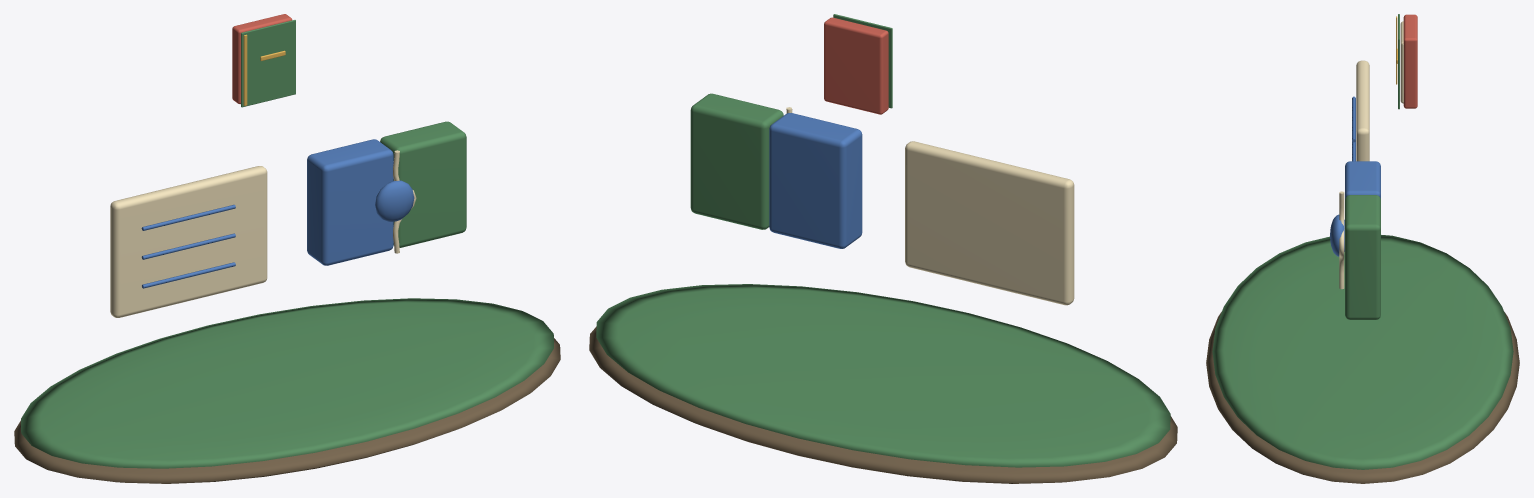
File: complete-third-precedent-as-if.glb
3 views of the same model, side by side, from view 1: azimuth 30°, elevation 25°; view 2: azimuth 150°, elevation 25°; view 3: azimuth 270°, elevation 25° (orthographic). The views are drawn at different scales.
Visible parts, largest first — view 1: complete-third-precedent-as-if_surface_01, complete-third-precedent-as-if_surface_02, complete-third-precedent-as-if_surface_03, complete-third-precedent-as-if_surface_00, complete-third-precedent-as-if_surface_04; view 2: complete-third-precedent-as-if_surface_01, complete-third-precedent-as-if_surface_02, complete-third-precedent-as-if_surface_03, complete-third-precedent-as-if_surface_00, complete-third-precedent-as-if_surface_04; view 3: complete-third-precedent-as-if_surface_01, complete-third-precedent-as-if_surface_00, complete-third-precedent-as-if_surface_02, complete-third-precedent-as-if_surface_03, complete-third-precedent-as-if_surface_04.
Boxes of the visible parts, bbox=[...] form: complete-third-precedent-as-if_surface_01: bbox=[21, 20, 553, 468]; complete-third-precedent-as-if_surface_02: bbox=[110, 150, 416, 317]; complete-third-precedent-as-if_surface_03: bbox=[141, 139, 414, 288]; complete-third-precedent-as-if_surface_00: bbox=[14, 338, 560, 483]; complete-third-precedent-as-if_surface_04: bbox=[232, 14, 292, 104]; complete-third-precedent-as-if_surface_01: bbox=[596, 14, 1170, 467]; complete-third-precedent-as-if_surface_02: bbox=[786, 107, 1074, 305]; complete-third-precedent-as-if_surface_03: bbox=[769, 113, 862, 248]; complete-third-precedent-as-if_surface_00: bbox=[589, 326, 1177, 483]; complete-third-precedent-as-if_surface_04: bbox=[824, 17, 888, 114]; complete-third-precedent-as-if_surface_01: bbox=[1212, 14, 1513, 469]; complete-third-precedent-as-if_surface_00: bbox=[1206, 312, 1519, 483]; complete-third-precedent-as-if_surface_02: bbox=[1339, 21, 1403, 289]; complete-third-precedent-as-if_surface_03: bbox=[1330, 96, 1380, 256]; complete-third-precedent-as-if_surface_04: bbox=[1403, 14, 1417, 108].
Bounding box in the file's own units: 4.56 × 3.09 × 2.5.
